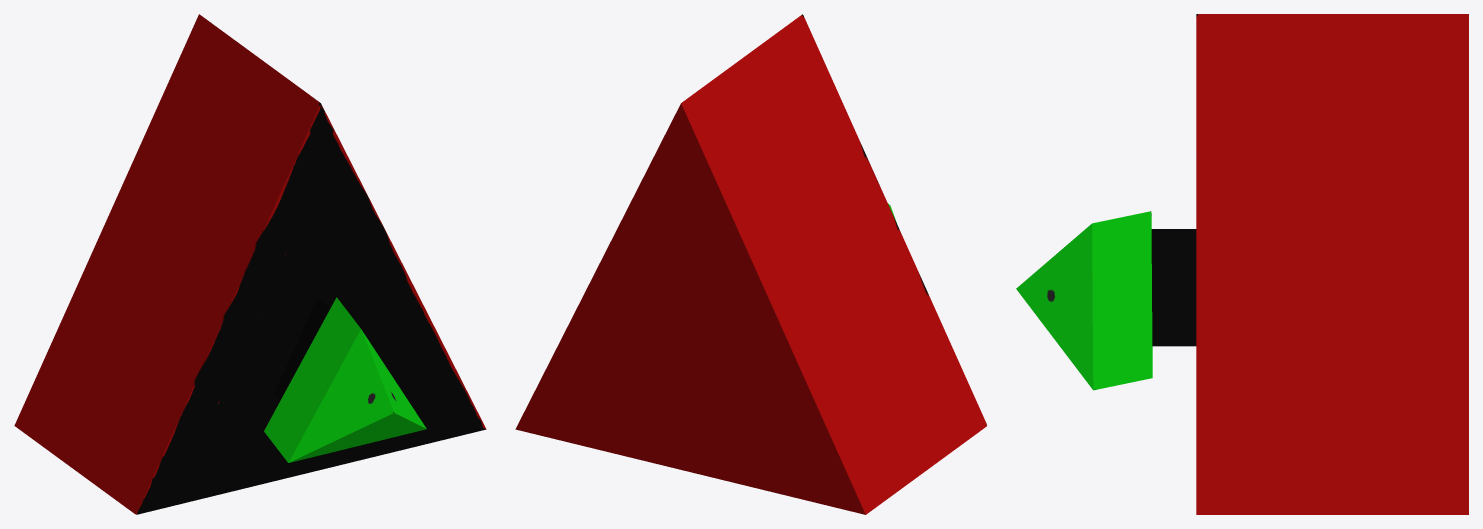
File: enemyBody.obj
3 views of the same model, side by side, from view 1: azimuth 30°, elevation 25°; view 2: azimuth 150°, elevation 25°; view 3: azimuth 270°, elevation 25° (orthographic). The views are drawn at different scales.
Parts seen in each view (by area): view 1: Cube; view 2: Cube; view 3: Cube.
Part boxes in pixels (<box>): Cube: <box>14,14,486,514</box>; Cube: <box>515,14,986,514</box>; Cube: <box>1016,14,1468,514</box>.
Bounding box in the file's own units: 1 × 1 × 1.
1 material, 1 textured.
